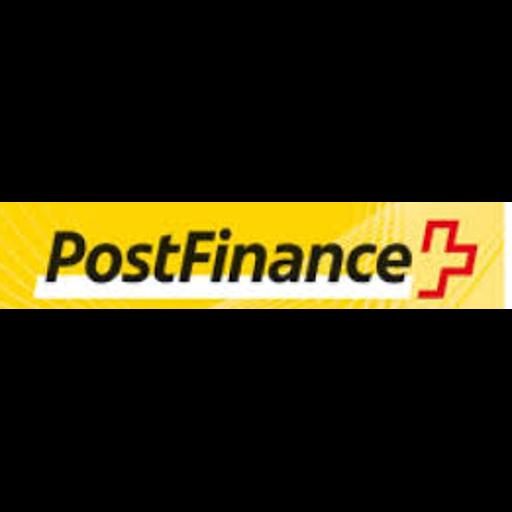PostFinance: (0, 202, 512, 309)
